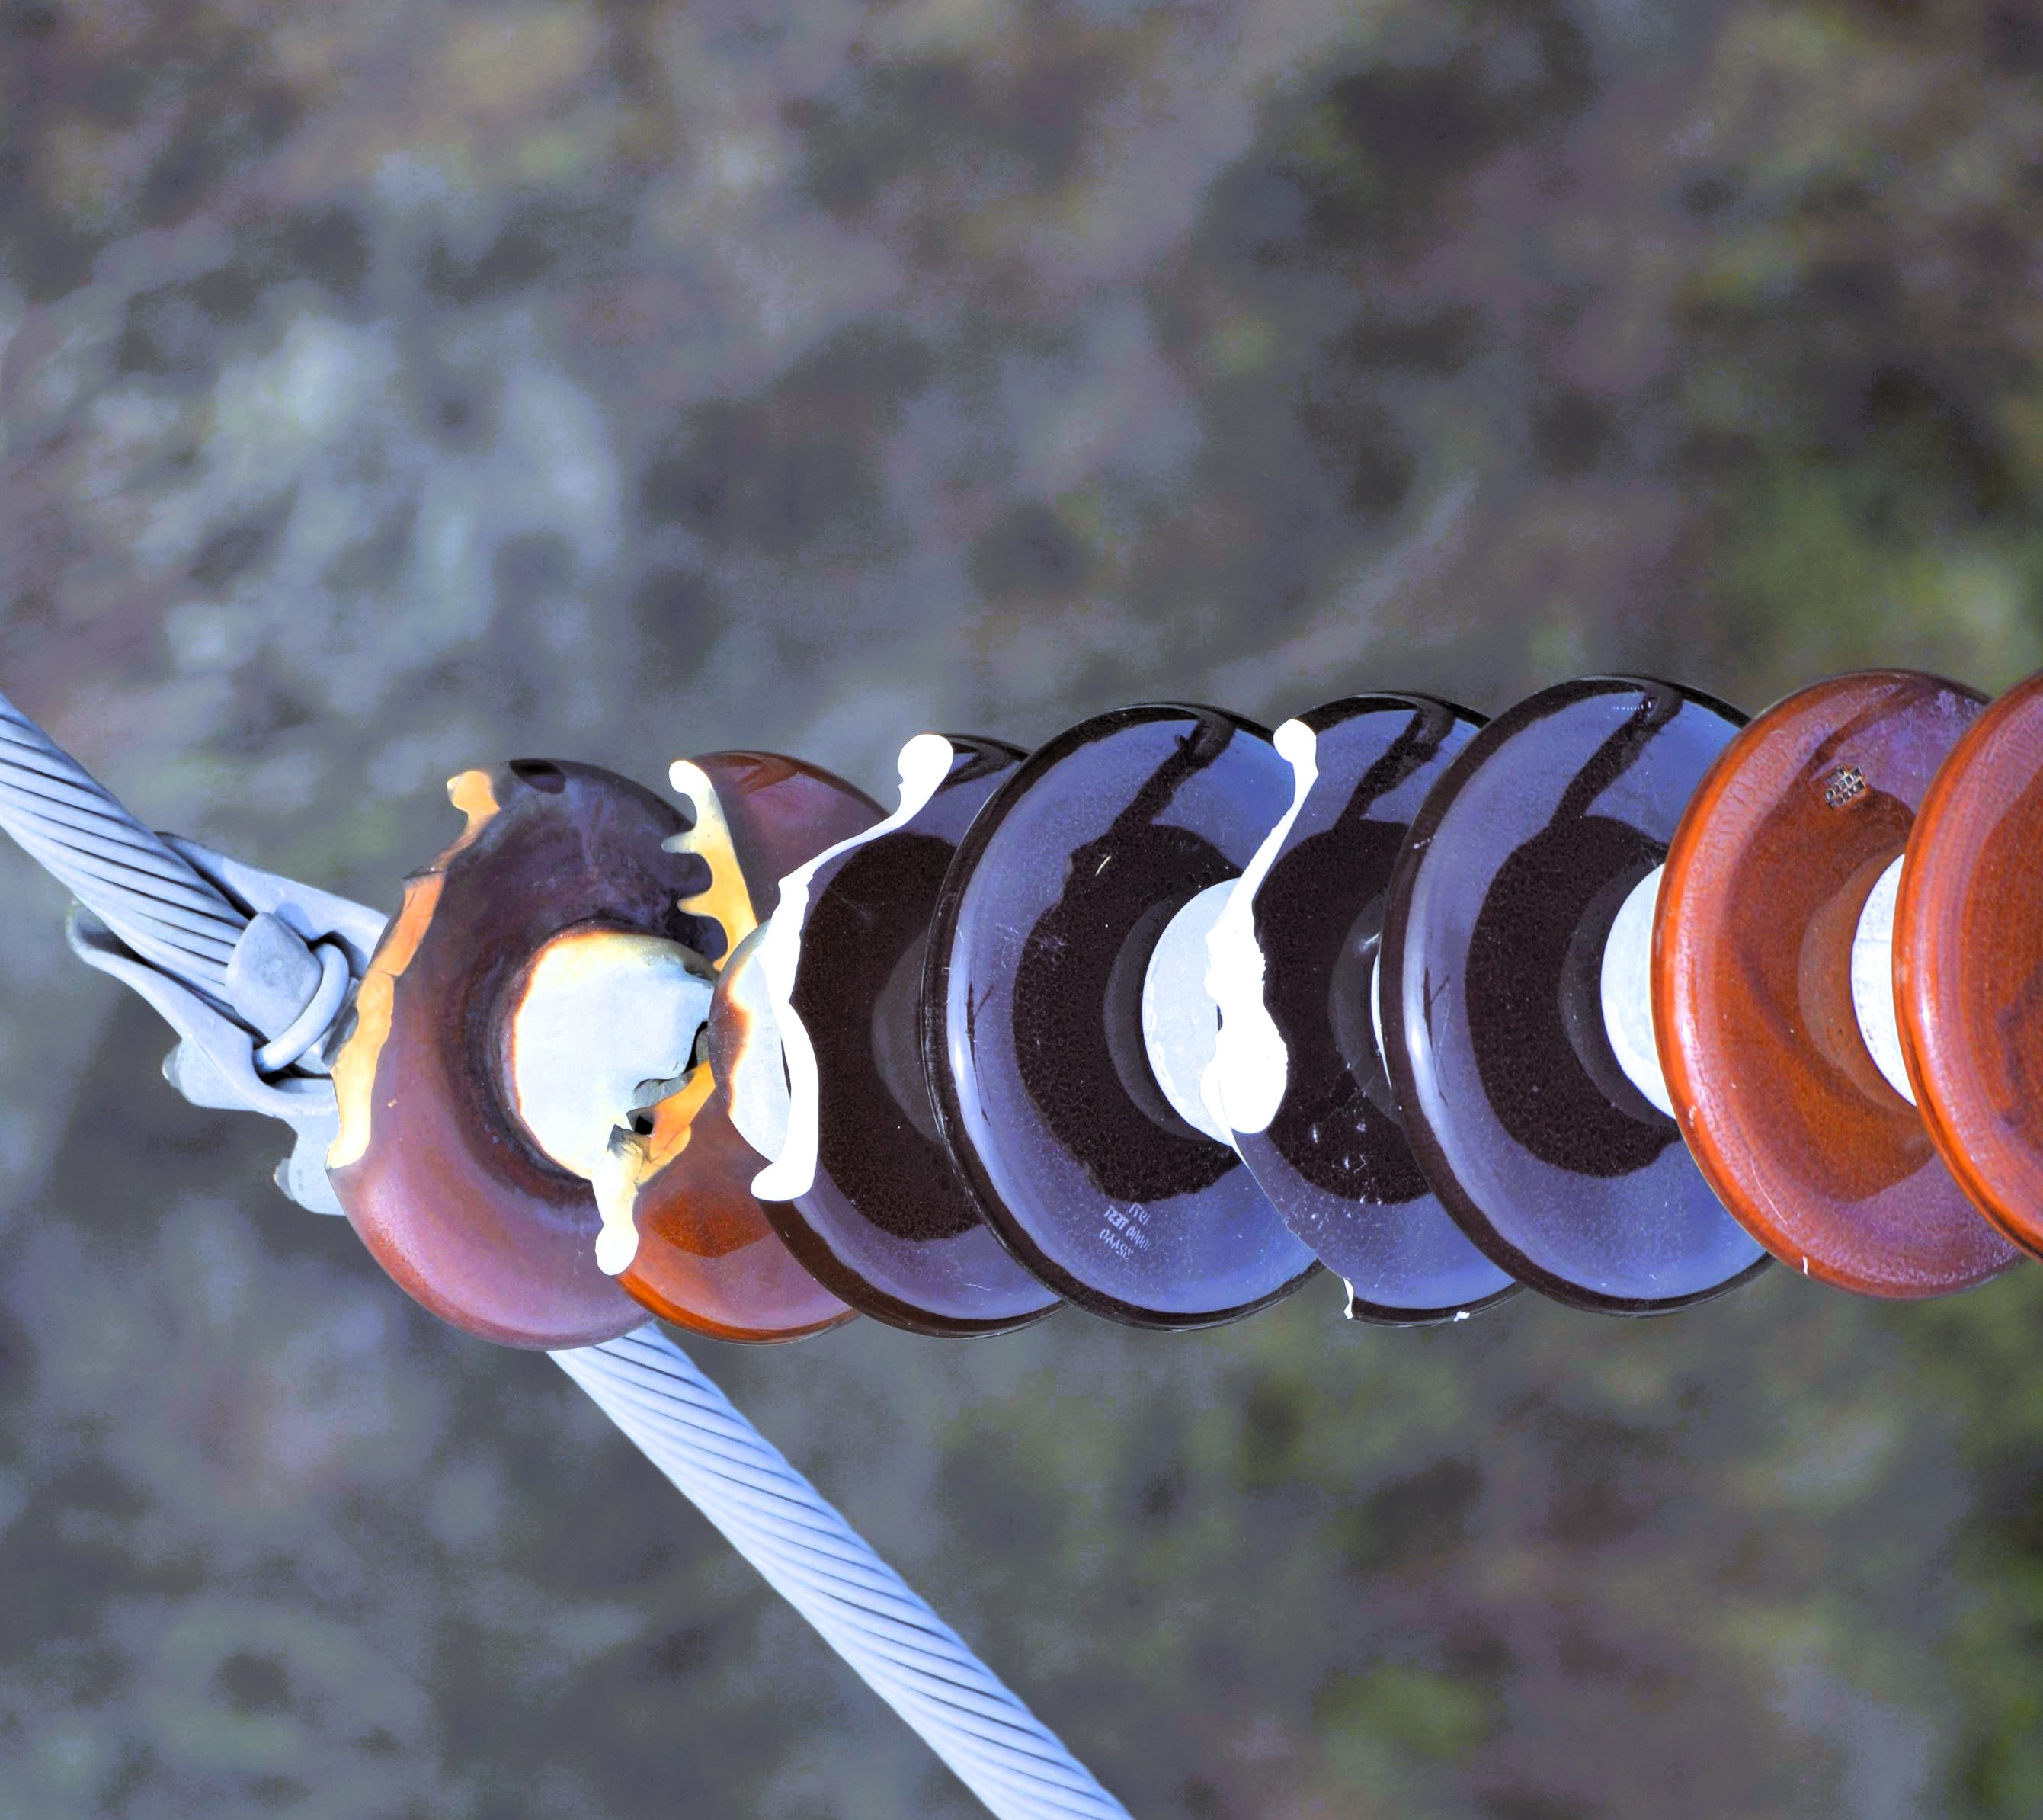insulator breakage: (313, 675, 968, 1360), (1184, 678, 1535, 1337)
